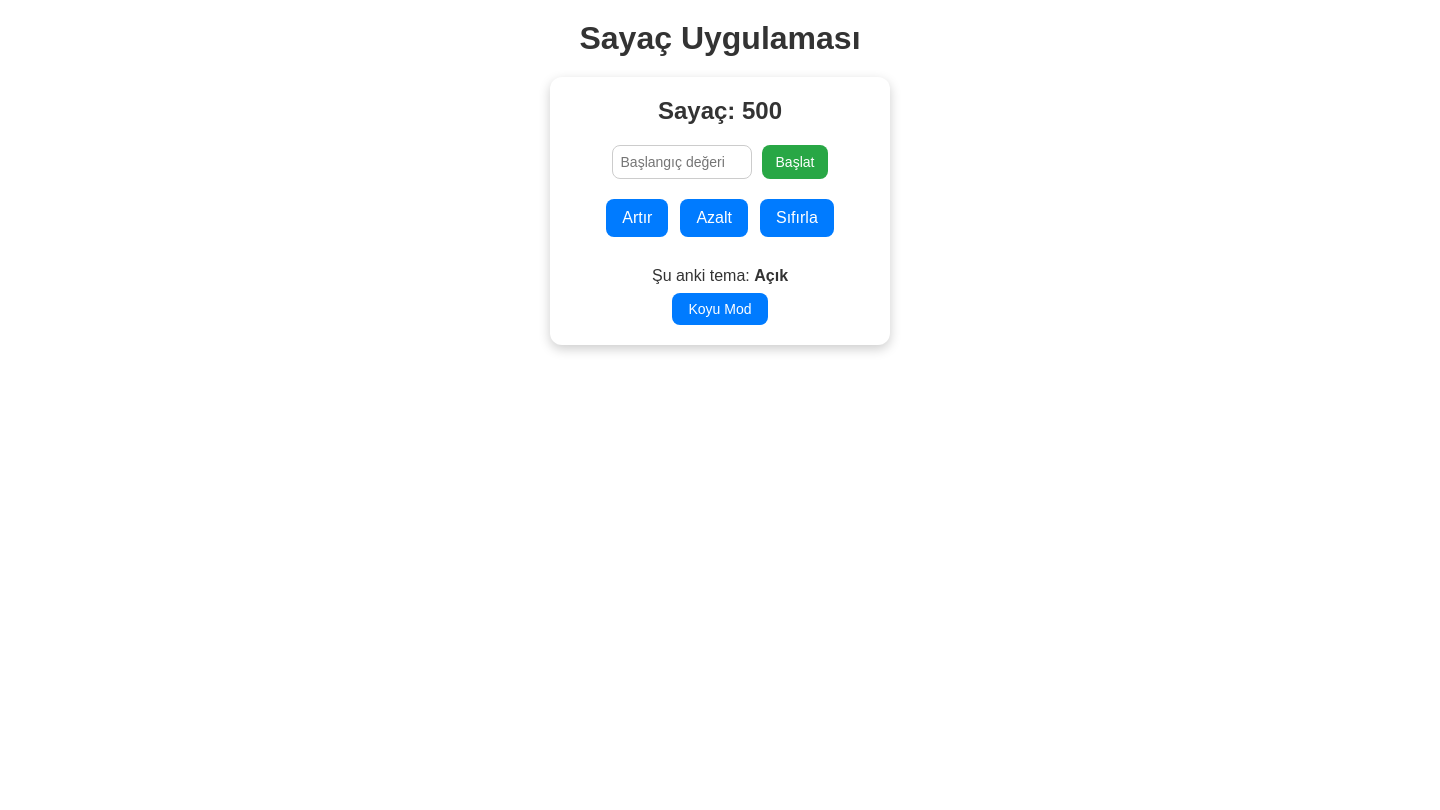
Test: tema değiştirme düğmesi görünümü değiştirir ve kaydeder
Step 1. Click the button "Koyu Mod" → (720, 309), box [672, 293, 768, 325]
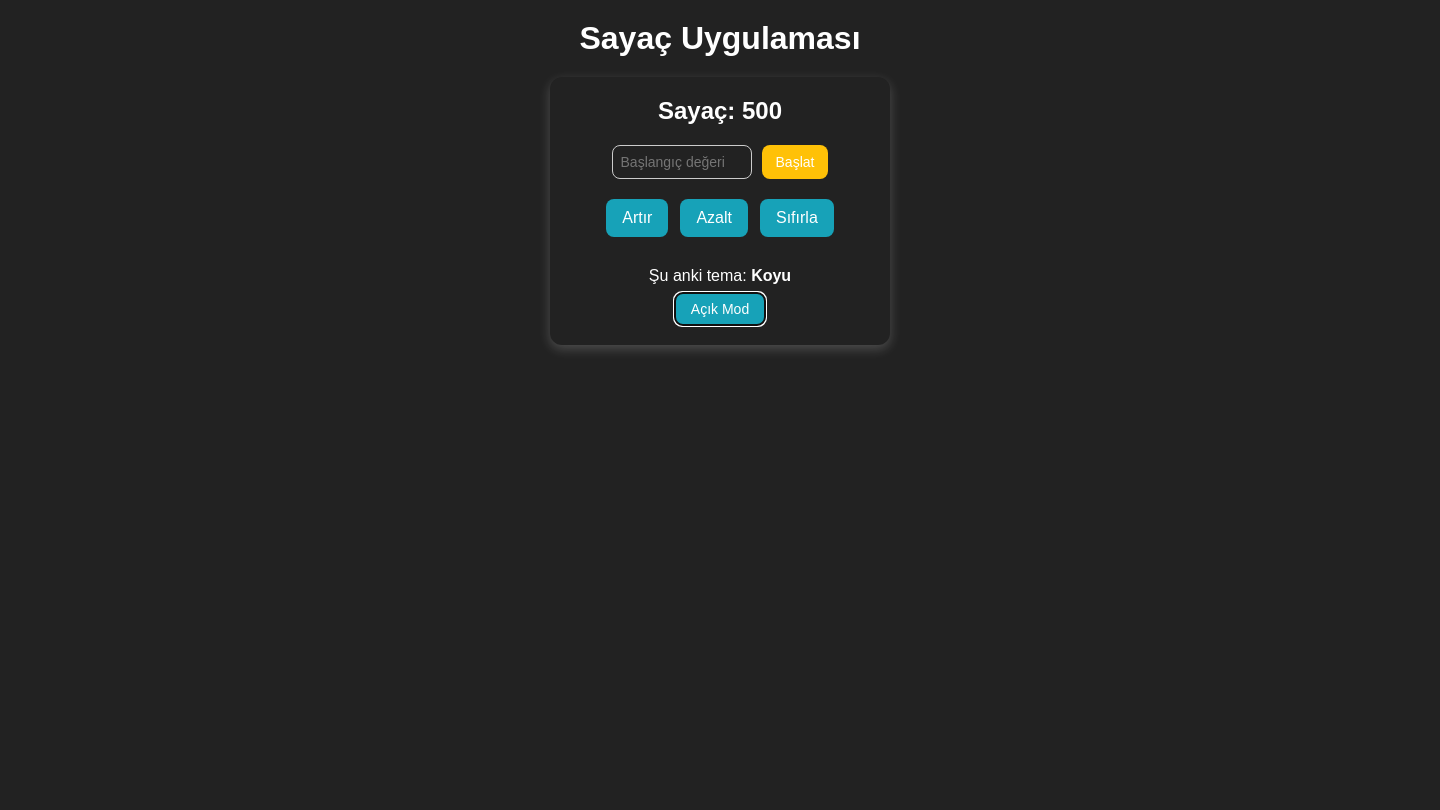
Expected: the button "Açık Mod" is shown, [675, 293, 765, 325]
